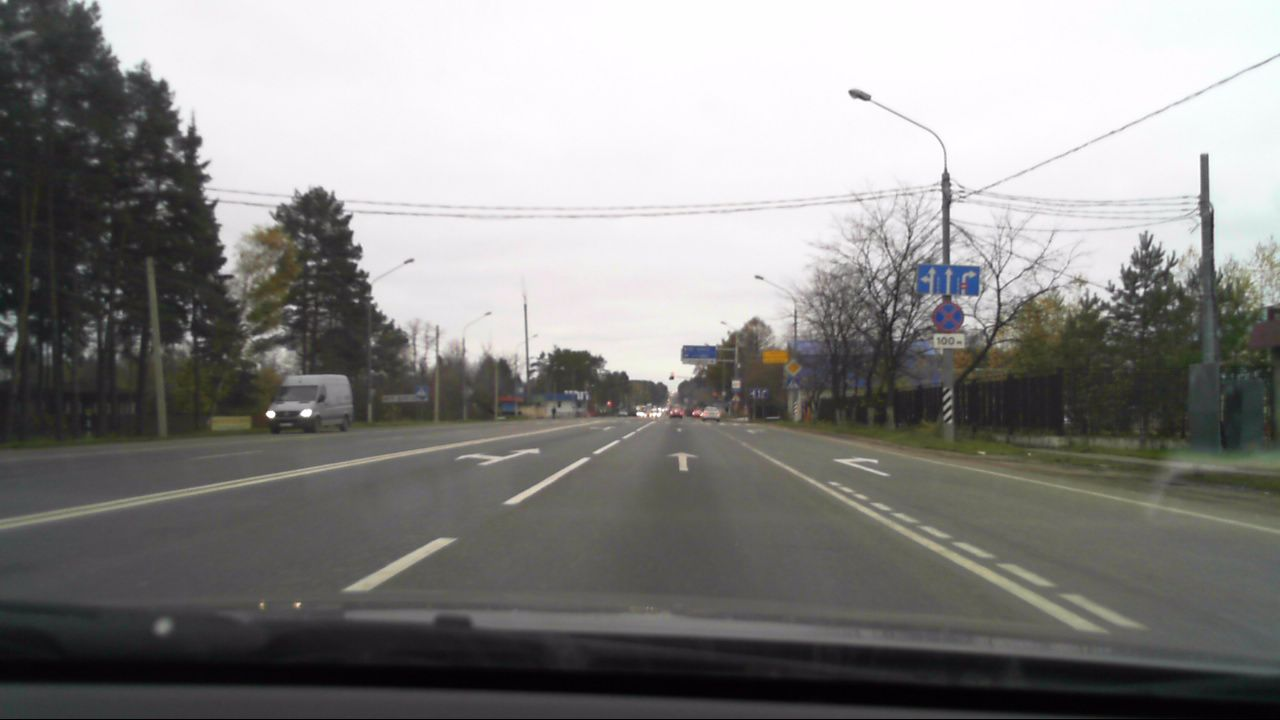No Parking: (932, 301, 964, 331)
